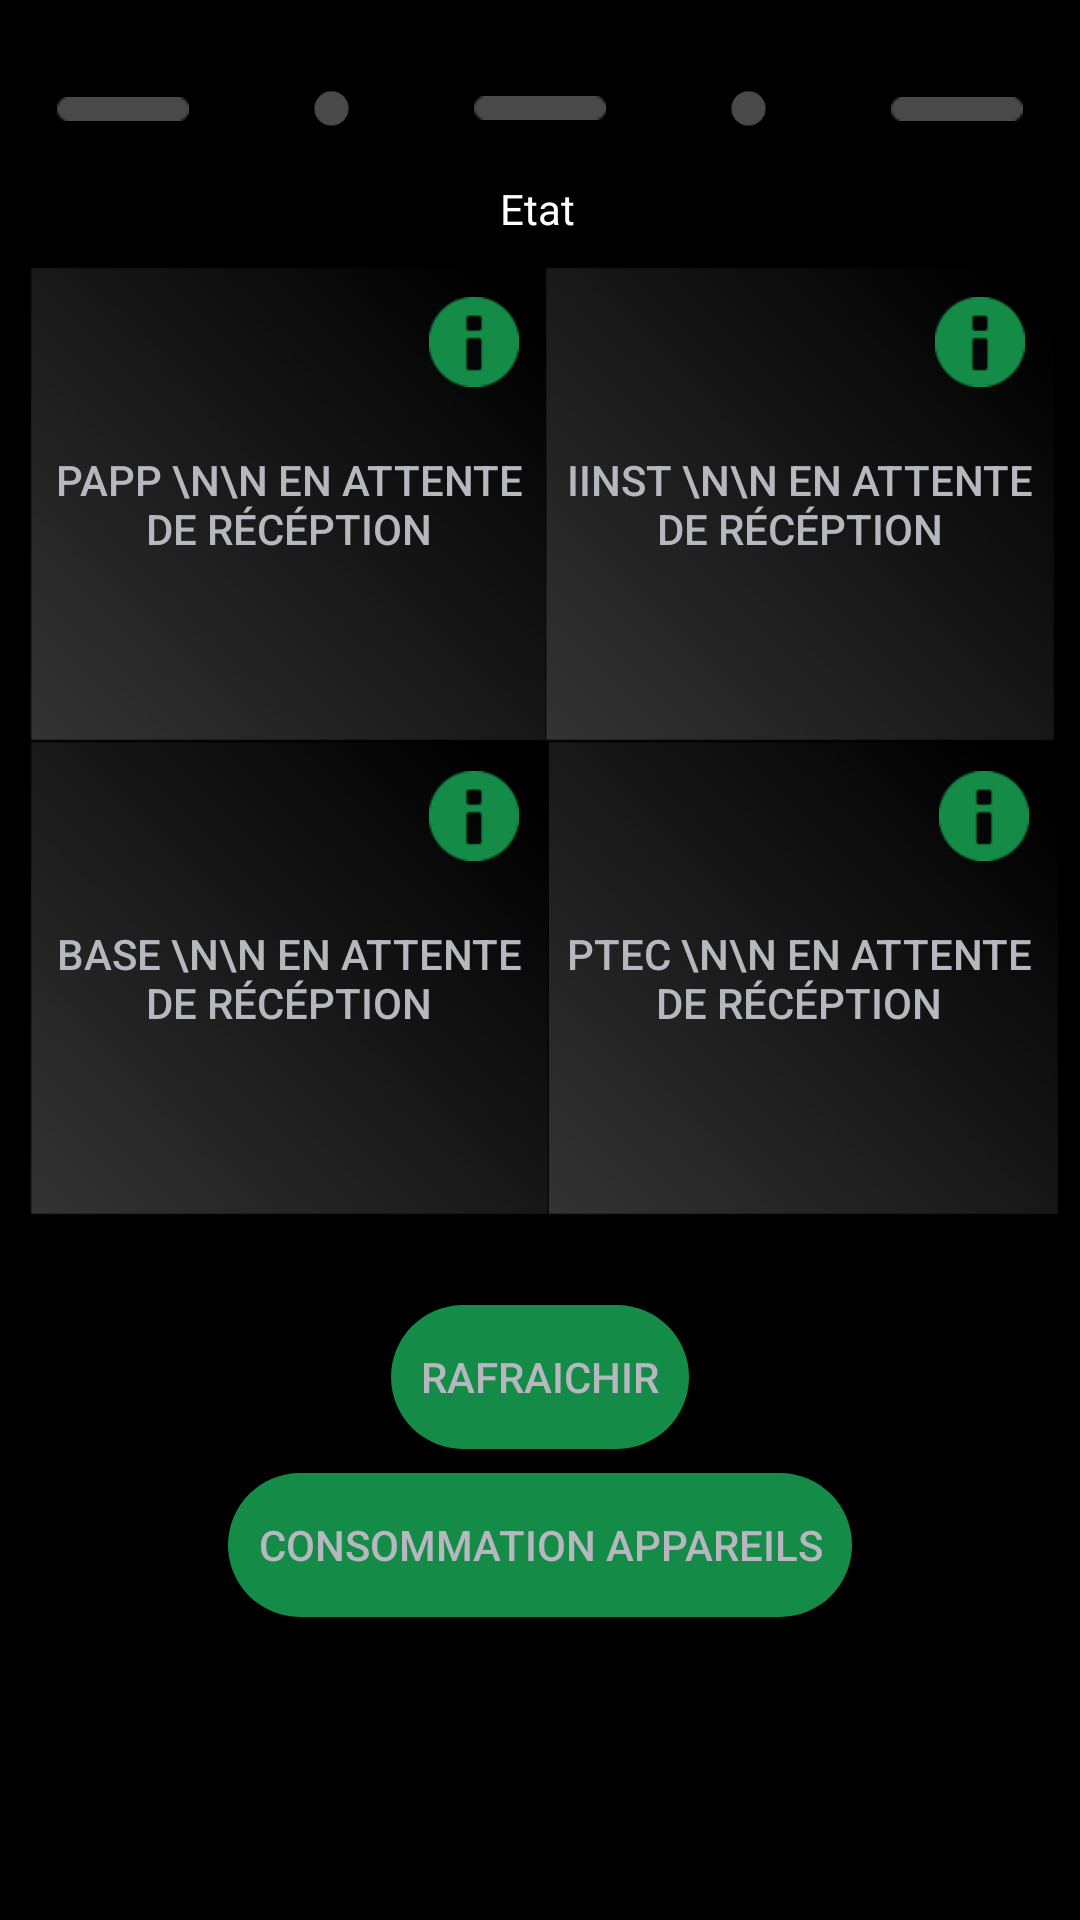

Screen size 1080px x 1920px. Icon name, then its center in pixels as point (x, y):
info: point (474, 342), point (980, 342), point (474, 816), point (984, 816)
presence invisible: point (331, 108), point (748, 108)
